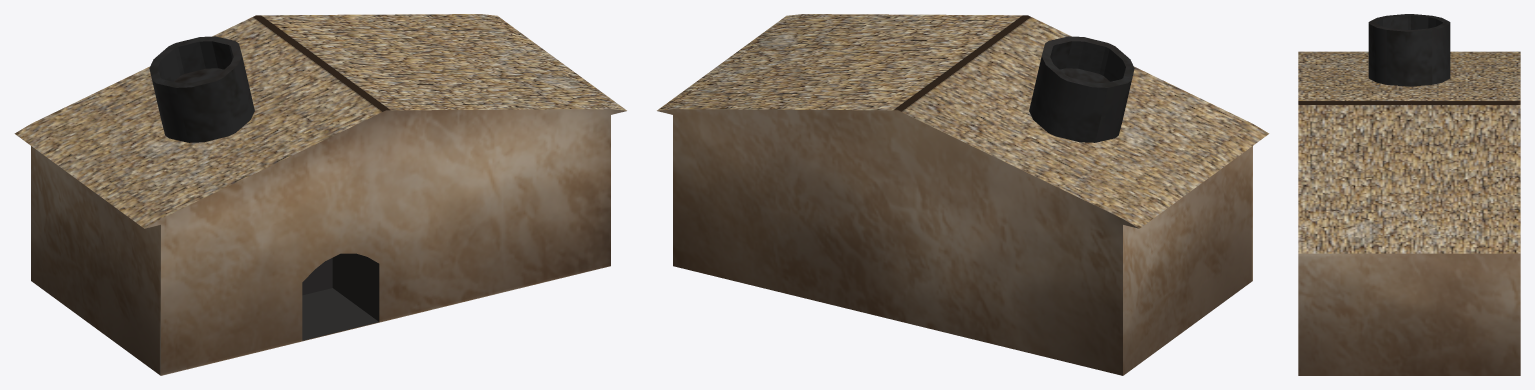
File: hamster_house_straw.FBX
3 views of the same model, side by side, from view 1: azimuth 30°, elevation 25°; view 2: azimuth 150°, elevation 25°; view 3: azimuth 270°, elevation 25° (orthographic). The views are drawn at different scales.
Parts seen in each view (by area): view 1: hamster_house; view 2: hamster_house; view 3: hamster_house.
Part boxes in pixels (<box>): hamster_house: <box>14,14,626,375</box>; hamster_house: <box>657,14,1269,375</box>; hamster_house: <box>1298,14,1520,375</box>.
Size of the model in its own units: 64.39 by 32.06 by 30.
1 material, 1 textured.
